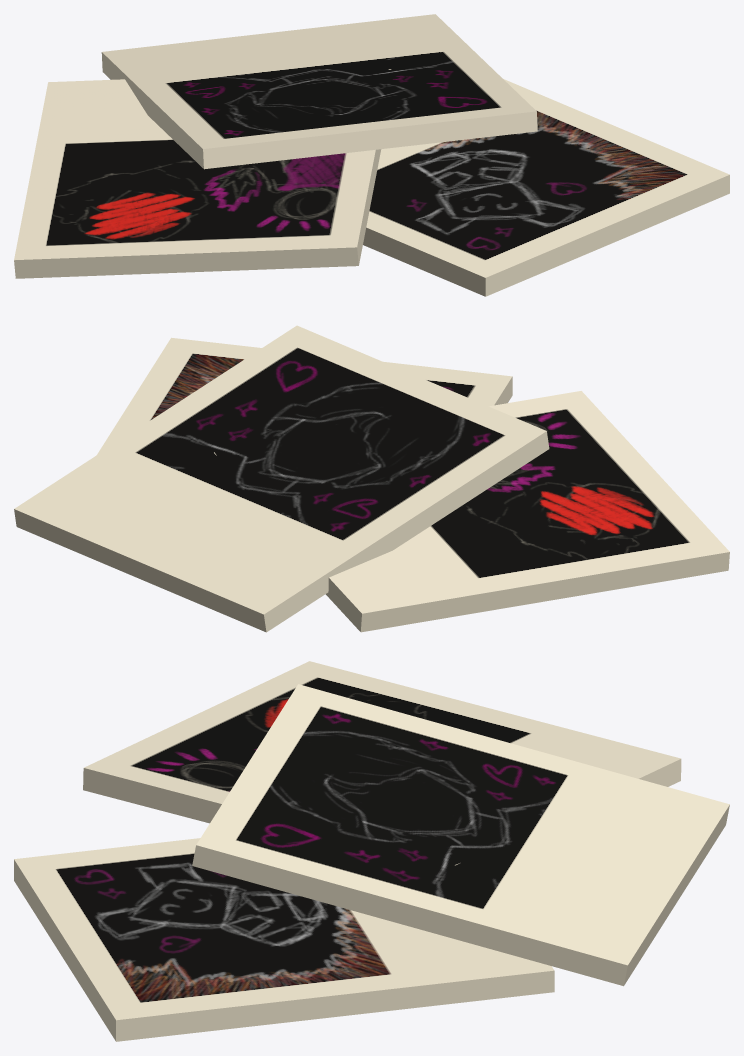
The model's file is polaroïd.fbx.
The picture shows the model from 3 angles, top to bottom: view 1: azimuth 30°, elevation 25°; view 2: azimuth 150°, elevation 25°; view 3: azimuth 270°, elevation 25°; orthographic projection. The views are drawn at different scales.
Visible parts, largest first — view 1: photo002, photo003, photo001; view 2: photo003, photo002, photo001; view 3: photo003, photo001, photo002.
Part boxes in pixels (x1,y1,x2,y2): photo002: [14, 69, 391, 278]; photo003: [101, 14, 537, 169]; photo001: [363, 79, 729, 296]; photo003: [14, 325, 549, 632]; photo002: [214, 391, 729, 632]; photo001: [97, 337, 512, 454]; photo003: [192, 684, 729, 986]; photo001: [14, 838, 554, 1041]; photo002: [83, 661, 681, 865].
Size of the model in its own units: 42.18 by 6.07 by 36.29.
Materials: 1 (1 with a texture image).
